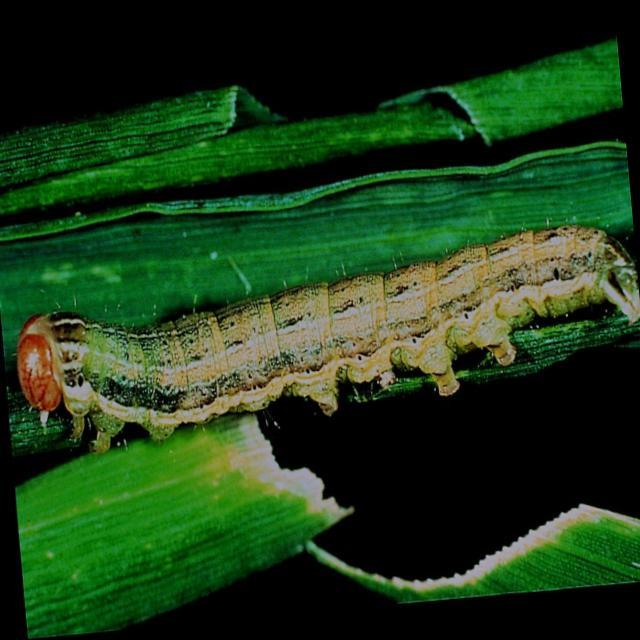Plaga: (3, 194, 640, 467)
